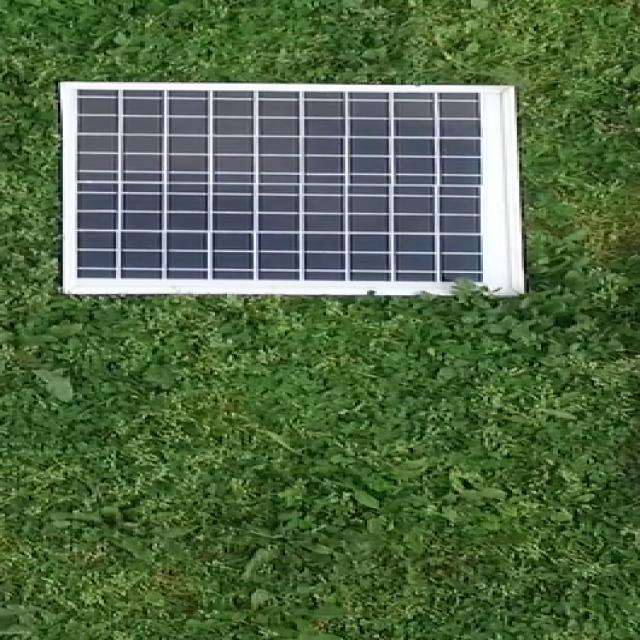no faulty: (64, 84, 516, 294)
